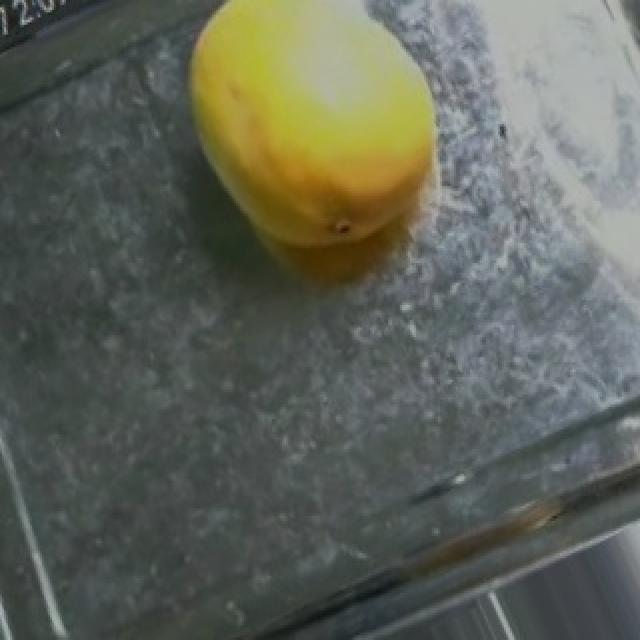fruit: (136, 0, 506, 300)
